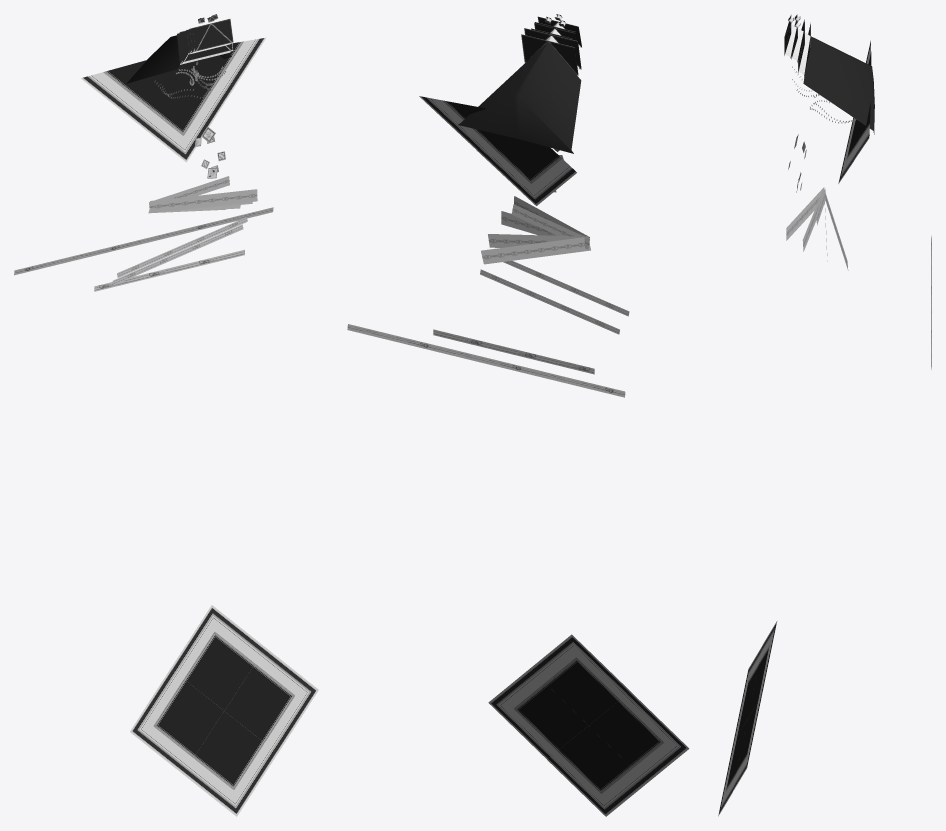
Rendered from 00_new_08_prova3.dae.
The picture shows the model from 3 angles, left to right: view 1: azimuth 30°, elevation 25°; view 2: azimuth 150°, elevation 25°; view 3: azimuth 270°, elevation 25°; orthographic projection. The views are drawn at different scales.
Visible parts, largest first — view 1: bordo_01.1 (×2), bordo_01 (×2), bordo_01.3 (×2), bordo_01.2, nero, topgrande2, topgrande2.4; view 2: bordo_01.1 (×2), nero, bordo_01.3 (×2), bordo_01, bordo_01.2, cinturino_03 (×3), topgrande2.5; view 3: nero, bordo_01.1 (×2), bordo_01.2, bordo_01.3, bordo_01.
Boxes of the visible parts, bbox=[...] form: bordo_01.1 (×2): bbox=[132, 64, 277, 816]; bordo_01 (×2): bbox=[81, 60, 223, 773]; bordo_01.3 (×2): bbox=[183, 37, 318, 753]; bordo_01.2: bbox=[171, 605, 265, 710]; nero: bbox=[126, 35, 231, 83]; topgrande2: bbox=[192, 18, 233, 52]; topgrande2.4: bbox=[179, 30, 233, 62]; bordo_01.1 (×2): bbox=[476, 134, 647, 816]; nero: bbox=[458, 42, 581, 153]; bordo_01.3 (×2): bbox=[419, 96, 588, 759]; bordo_01: bbox=[589, 691, 689, 782]; bordo_01.2: bbox=[530, 634, 630, 724]; cinturino_03 (×3): bbox=[347, 324, 625, 397]; topgrande2.5: bbox=[521, 34, 578, 75]; nero: bbox=[803, 36, 874, 134]; bordo_01.1 (×2): bbox=[718, 117, 862, 816]; bordo_01.2: bbox=[747, 621, 777, 717]; bordo_01.3: bbox=[732, 695, 761, 791]; bordo_01: bbox=[733, 645, 762, 741].
Size of the model in its own units: 2063 by 5878 by 1416.
17 materials, 15 textured.
